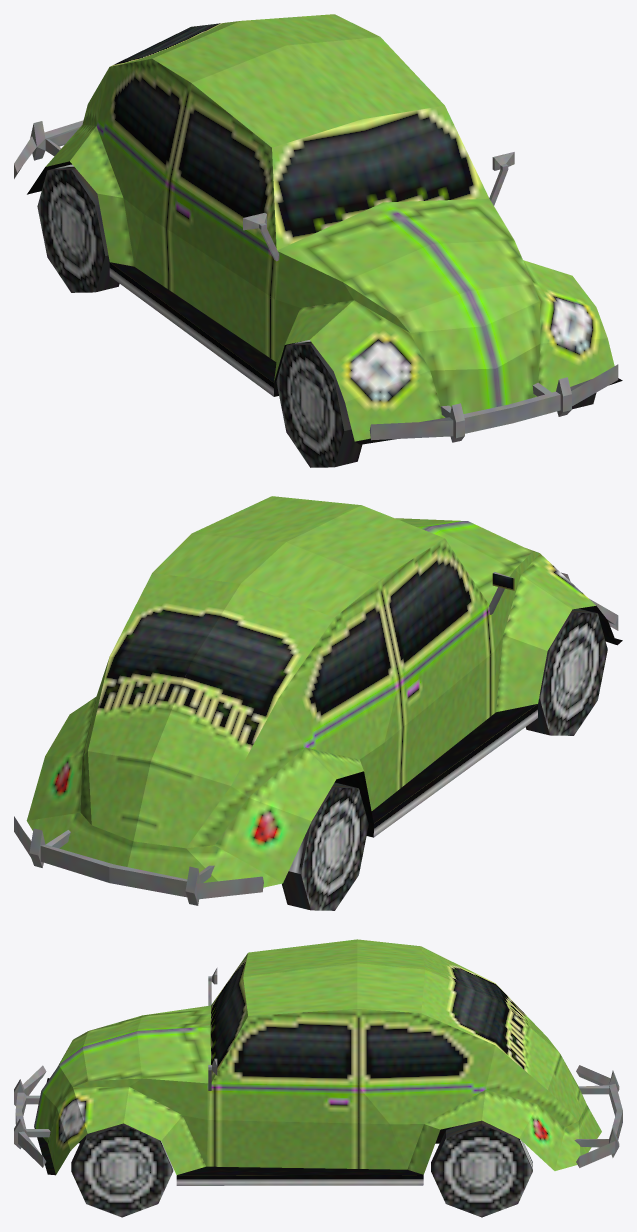
The model's file is petaverde.fbx.
3 renders of one model, top to bottom at view 1: azimuth 30°, elevation 25°; view 2: azimuth 150°, elevation 25°; view 3: azimuth 270°, elevation 25°, orthographic. The views are drawn at different scales.
Parts seen in each view (by area): view 1: compact_classic, wheel_FR, wheel_RR; view 2: compact_classic, wheel_RR, wheel_FR; view 3: compact_classic, wheel_RL, wheel_FL.
Boxes of the visible parts, x1=… form: compact_classic: x1=14, y1=14, x2=622, y2=444; wheel_FR: x1=276, y1=340, x2=362, y2=467; wheel_RR: x1=37, y1=164, x2=119, y2=292; compact_classic: x1=14, y1=496, x2=622, y2=905; wheel_RR: x1=282, y1=782, x2=368, y2=910; wheel_FR: x1=525, y1=608, x2=607, y2=735; compact_classic: x1=14, y1=939, x2=622, y2=1185; wheel_RL: x1=431, y1=1120, x2=532, y2=1217; wheel_FL: x1=71, y1=1123, x2=173, y2=1217.
Bounding box in the file's own units: 158 × 153 × 406.
